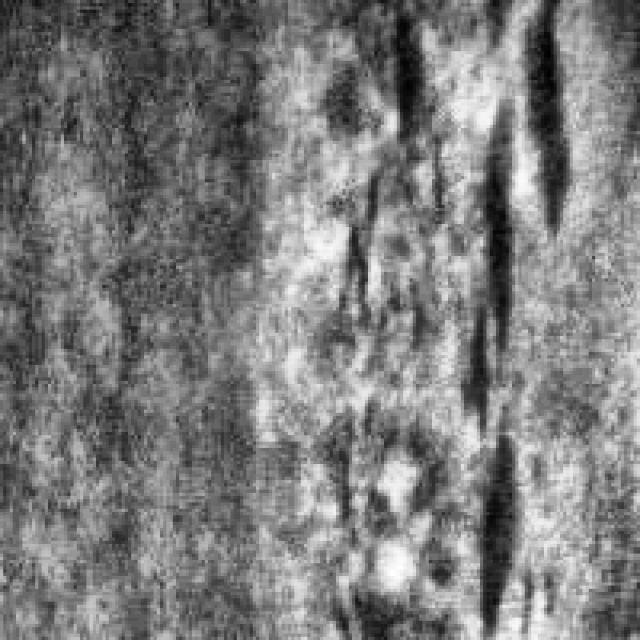Patches: (458, 0, 580, 573), (461, 422, 544, 634), (364, 3, 442, 166)
